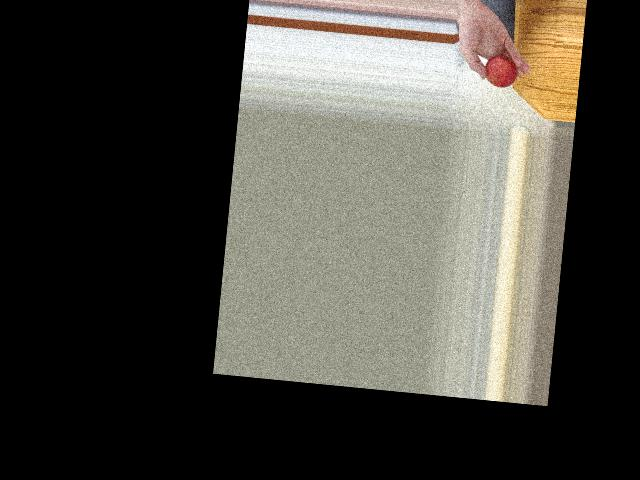apple: (482, 49, 519, 90)
